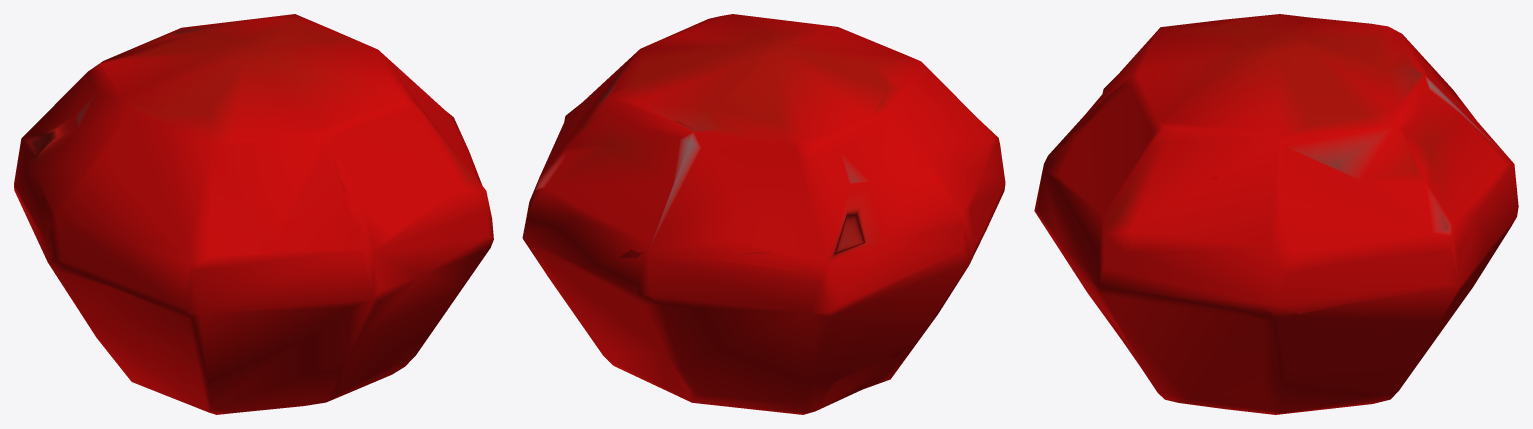
Rendered from gen3d-ruby-lod1.glb.
The picture shows the model from 3 angles, left to right: view 1: azimuth 30°, elevation 25°; view 2: azimuth 150°, elevation 25°; view 3: azimuth 270°, elevation 25°; orthographic projection. The views are drawn at different scales.
Parts seen in each view (by area): view 1: part_0; view 2: part_0; view 3: part_0.
Boxes of the visible parts, x1,y1,x2,y2 form: part_0: (14,14,493,414); part_0: (522,14,1005,414); part_0: (1034,14,1518,414).
Size of the model in its own units: 1.34 by 0.9906 by 1.33.
